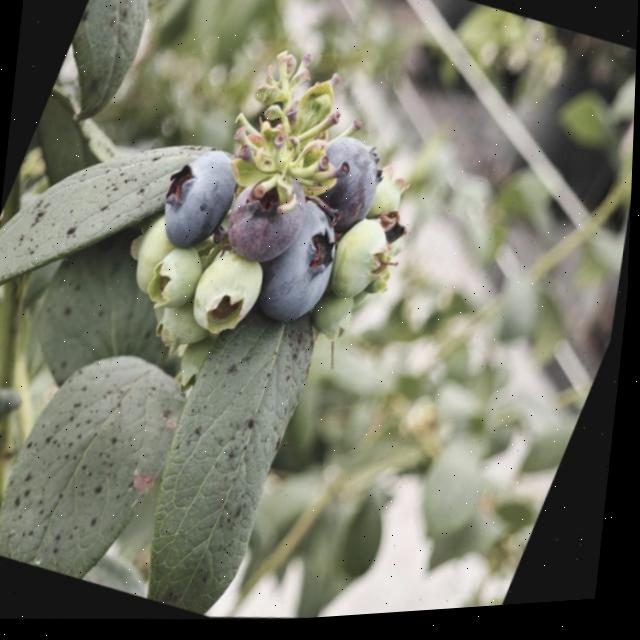RipeBlueBerry: (241, 188, 365, 343), (144, 136, 256, 269), (295, 127, 401, 241)
Semi-RipeBlueBerry: (218, 167, 324, 276)
UnripeBlueBerry: (181, 244, 279, 354), (317, 211, 411, 319)
